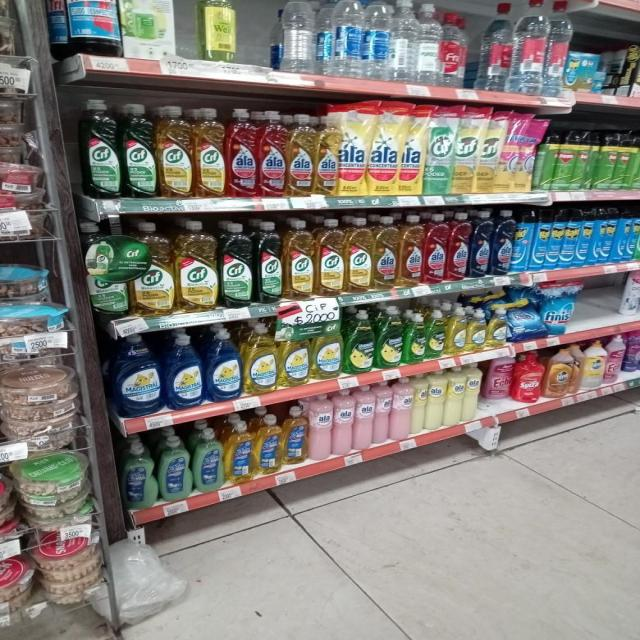ala_conc_amarillo: (288, 112, 314, 198), (373, 215, 398, 290), (316, 113, 338, 196), (399, 214, 423, 287)
ala_conc_azul: (492, 209, 513, 276), (471, 209, 491, 278)
ala_conc_rojo: (226, 108, 258, 198), (259, 110, 287, 198), (424, 213, 447, 284), (448, 212, 469, 282)
ala_crem_amarillo: (464, 362, 482, 423), (446, 366, 464, 426), (428, 368, 445, 431), (412, 373, 427, 433)
ala_crem_rosado: (308, 392, 332, 461), (333, 388, 354, 455), (355, 384, 374, 451)
ala_sachet_amarillo: (369, 100, 400, 196), (400, 102, 424, 195)
cif_conc_bot_amarilla: (132, 221, 174, 316), (175, 220, 218, 312), (157, 104, 193, 198), (194, 107, 225, 198), (284, 218, 315, 300), (316, 218, 345, 296), (346, 216, 372, 293)
cif_conc_botella_verde: (80, 99, 120, 199), (122, 103, 156, 199), (220, 222, 253, 308), (255, 220, 282, 304)
magistral_con_amarillo: (244, 323, 277, 394), (279, 327, 309, 387), (312, 322, 342, 380), (447, 307, 466, 355), (468, 308, 487, 352), (488, 308, 508, 348)
magistral_con_azul: (112, 334, 162, 416), (165, 332, 203, 410), (206, 328, 241, 402)
zorro: (158, 436, 191, 501), (194, 428, 223, 492), (225, 419, 253, 484), (255, 413, 282, 475)
